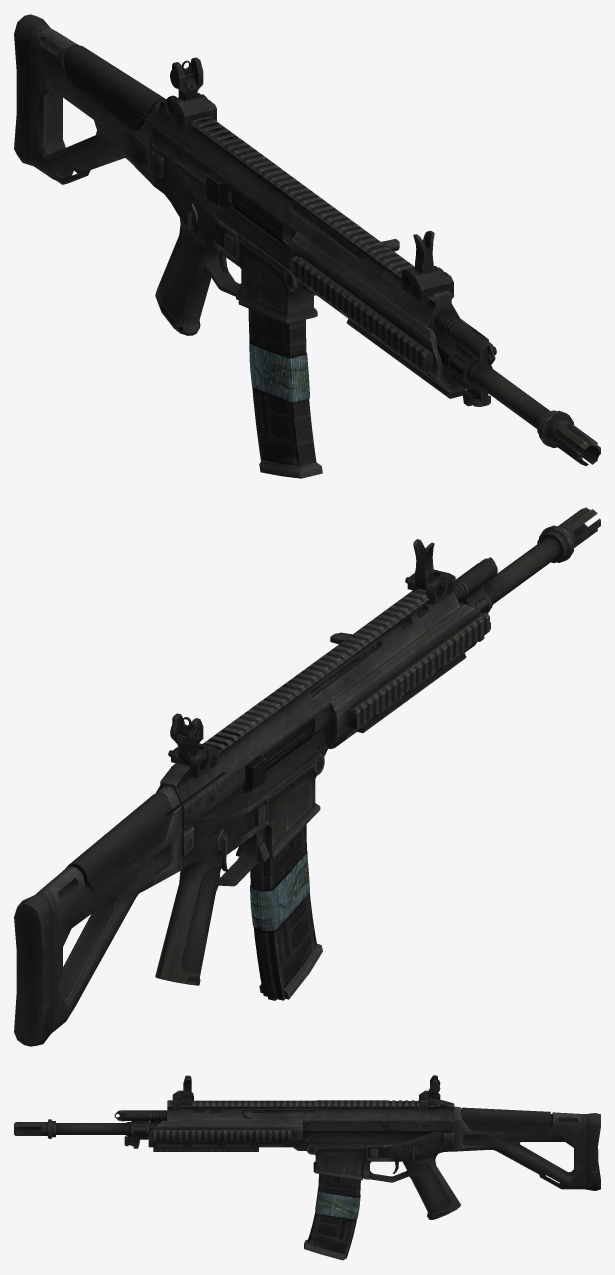
Rendered from ACWR.fbx.
3 renders of one model, top to bottom at view 1: azimuth 30°, elevation 25°; view 2: azimuth 150°, elevation 25°; view 3: azimuth 270°, elevation 25°, orthographic. The views are drawn at different scales.
Parts seen in each view (by area): view 1: Mesh_0004, MAG, Mesh_0007; view 2: Mesh_0004, MAG, Mesh_0007; view 3: Mesh_0004, MAG, Mesh_0007.
Part boxes in pixels (box(x1,y1,x2,y2)): Mesh_0004: box(14, 14, 600, 466); MAG: box(248, 309, 322, 478); Mesh_0007: box(164, 57, 453, 302); Mesh_0004: box(14, 507, 600, 1046); MAG: box(250, 824, 322, 1000); Mesh_0007: box(168, 539, 455, 778); Mesh_0004: box(14, 1100, 600, 1219); MAG: box(304, 1174, 360, 1260); Mesh_0007: box(172, 1075, 440, 1109).
Bounding box in the file's own units: 6.07 × 30.51 × 90.09.
3 materials, 3 textured.
